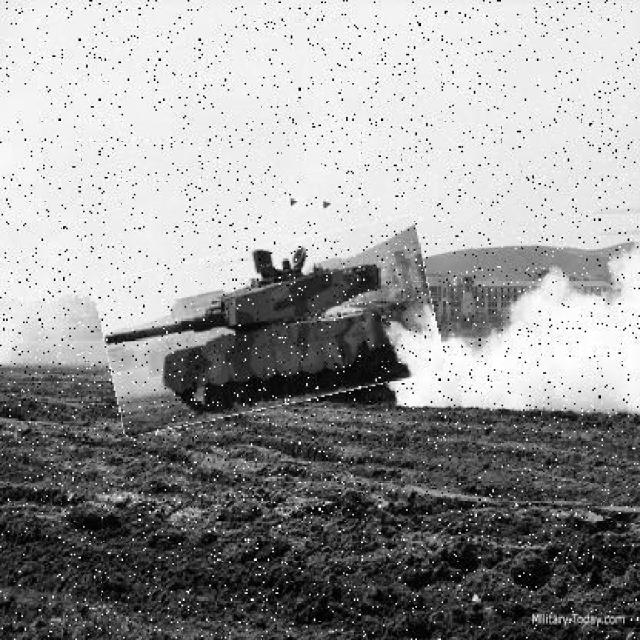Tank: (100, 232, 440, 421)
